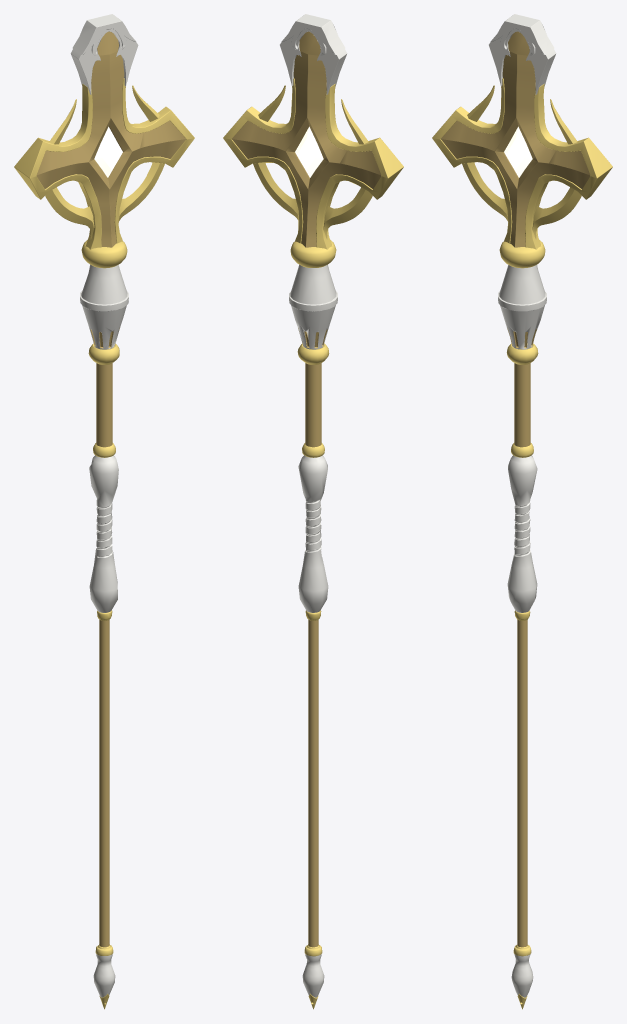
The model's file is staff-holy.glb.
3 renders of one model, left to right at view 1: azimuth 30°, elevation 25°; view 2: azimuth 150°, elevation 25°; view 3: azimuth 330°, elevation 25°, orthographic.
Visible parts, largest first — view 1: staff; view 2: staff; view 3: staff.
Part boxes in pixels (x1,y1,x2,y2): staff: [14, 14, 194, 1009]; staff: [223, 14, 403, 1009]; staff: [432, 14, 612, 1009].
Size of the model in its own units: 0.4018 by 2.3 by 0.1034.
